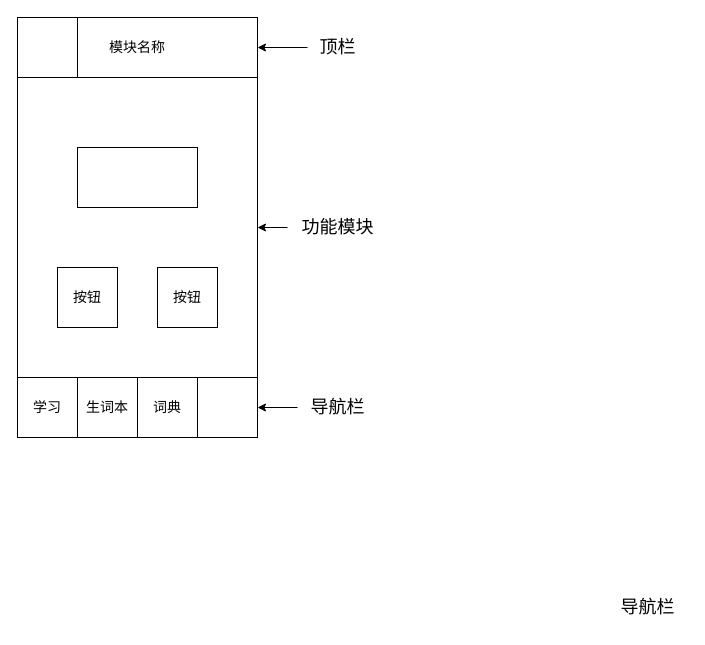
The diagram is 705 pixels wide and 645 high, and some of its shapes have lost their labels. The centre of each missing label's shape, as x and y in pixels:
"文字" goes at [137,177].
"模块图标" goes at [47,47].
"设置" goes at [227,407].
